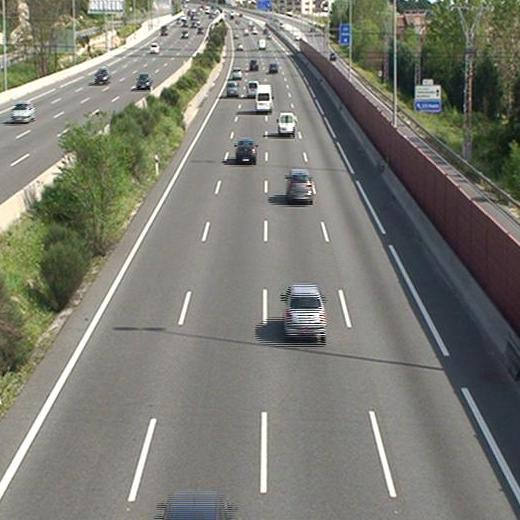car: (281, 284, 328, 337), (284, 167, 314, 202), (234, 136, 258, 163), (226, 81, 239, 98), (230, 67, 243, 81), (268, 61, 278, 72), (249, 60, 258, 70)
van: (256, 83, 274, 111), (276, 111, 297, 135), (244, 80, 258, 97)
